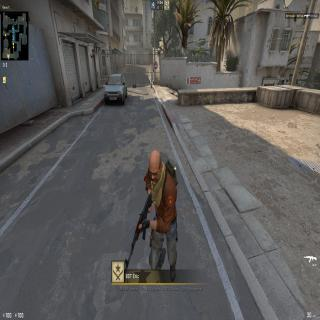T-Head: (146, 145, 164, 187)
